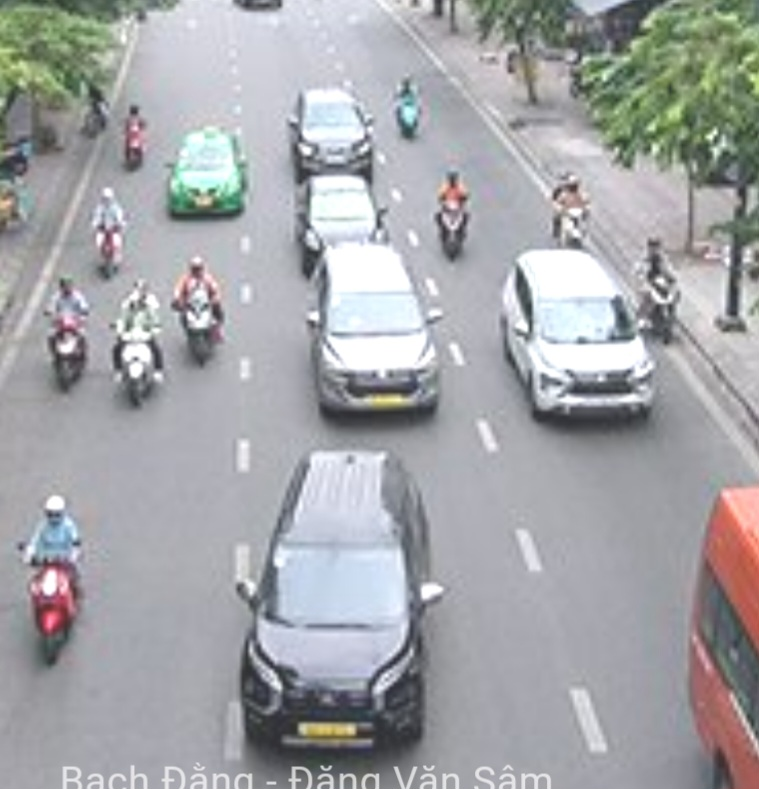car: (242, 447, 425, 753), (502, 246, 654, 422), (308, 247, 440, 421), (168, 122, 247, 218), (293, 88, 374, 175), (298, 171, 386, 247)
